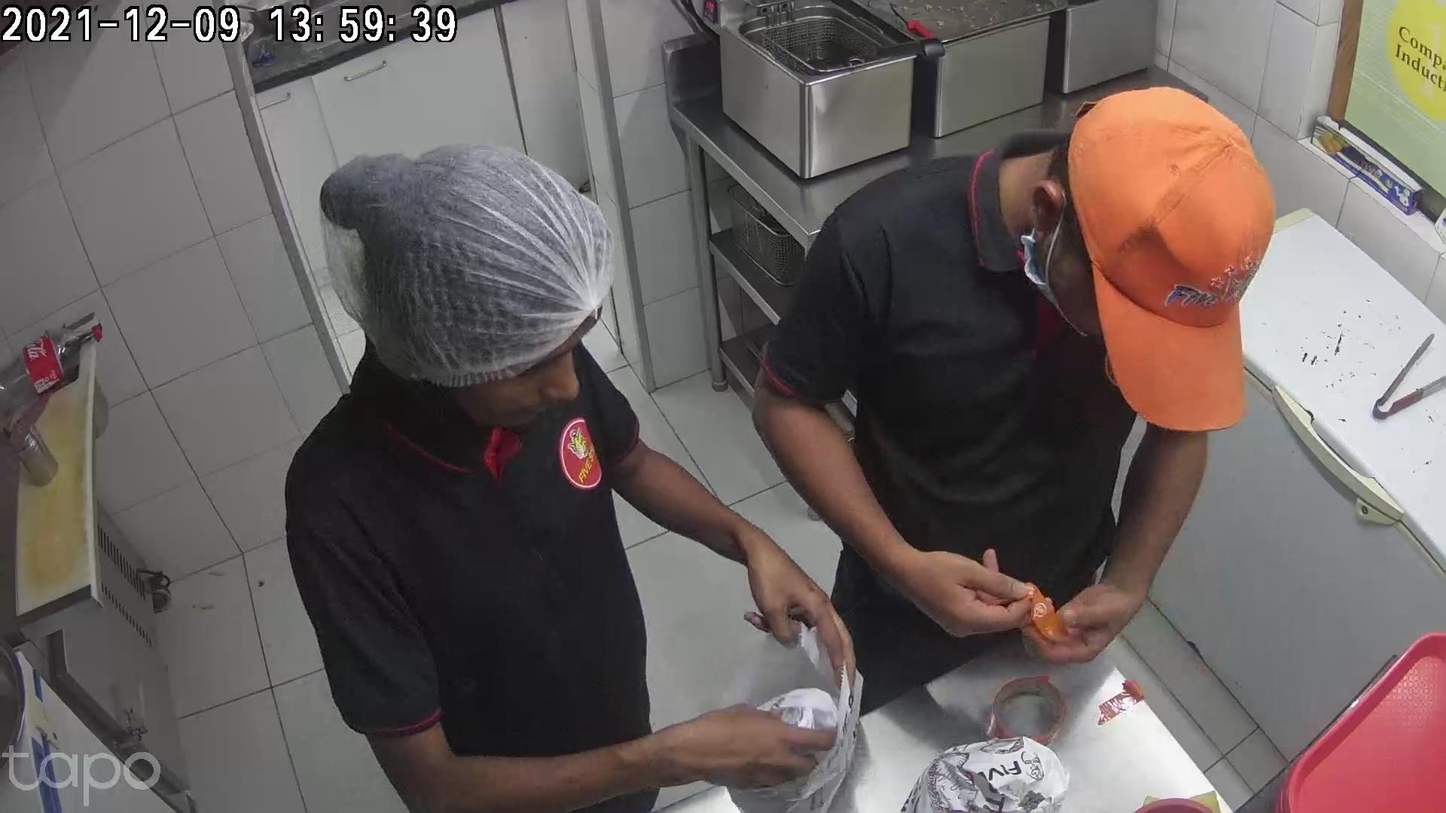no_gloves: (892, 548, 1029, 635)
